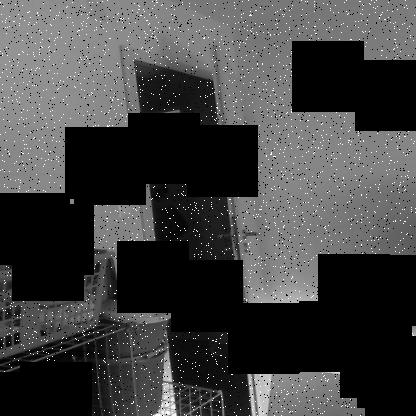Porte: (117, 38, 277, 415)
